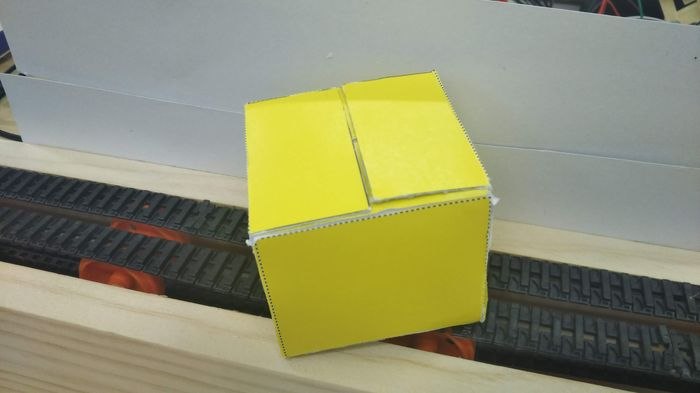box4: (240, 67, 497, 356)
